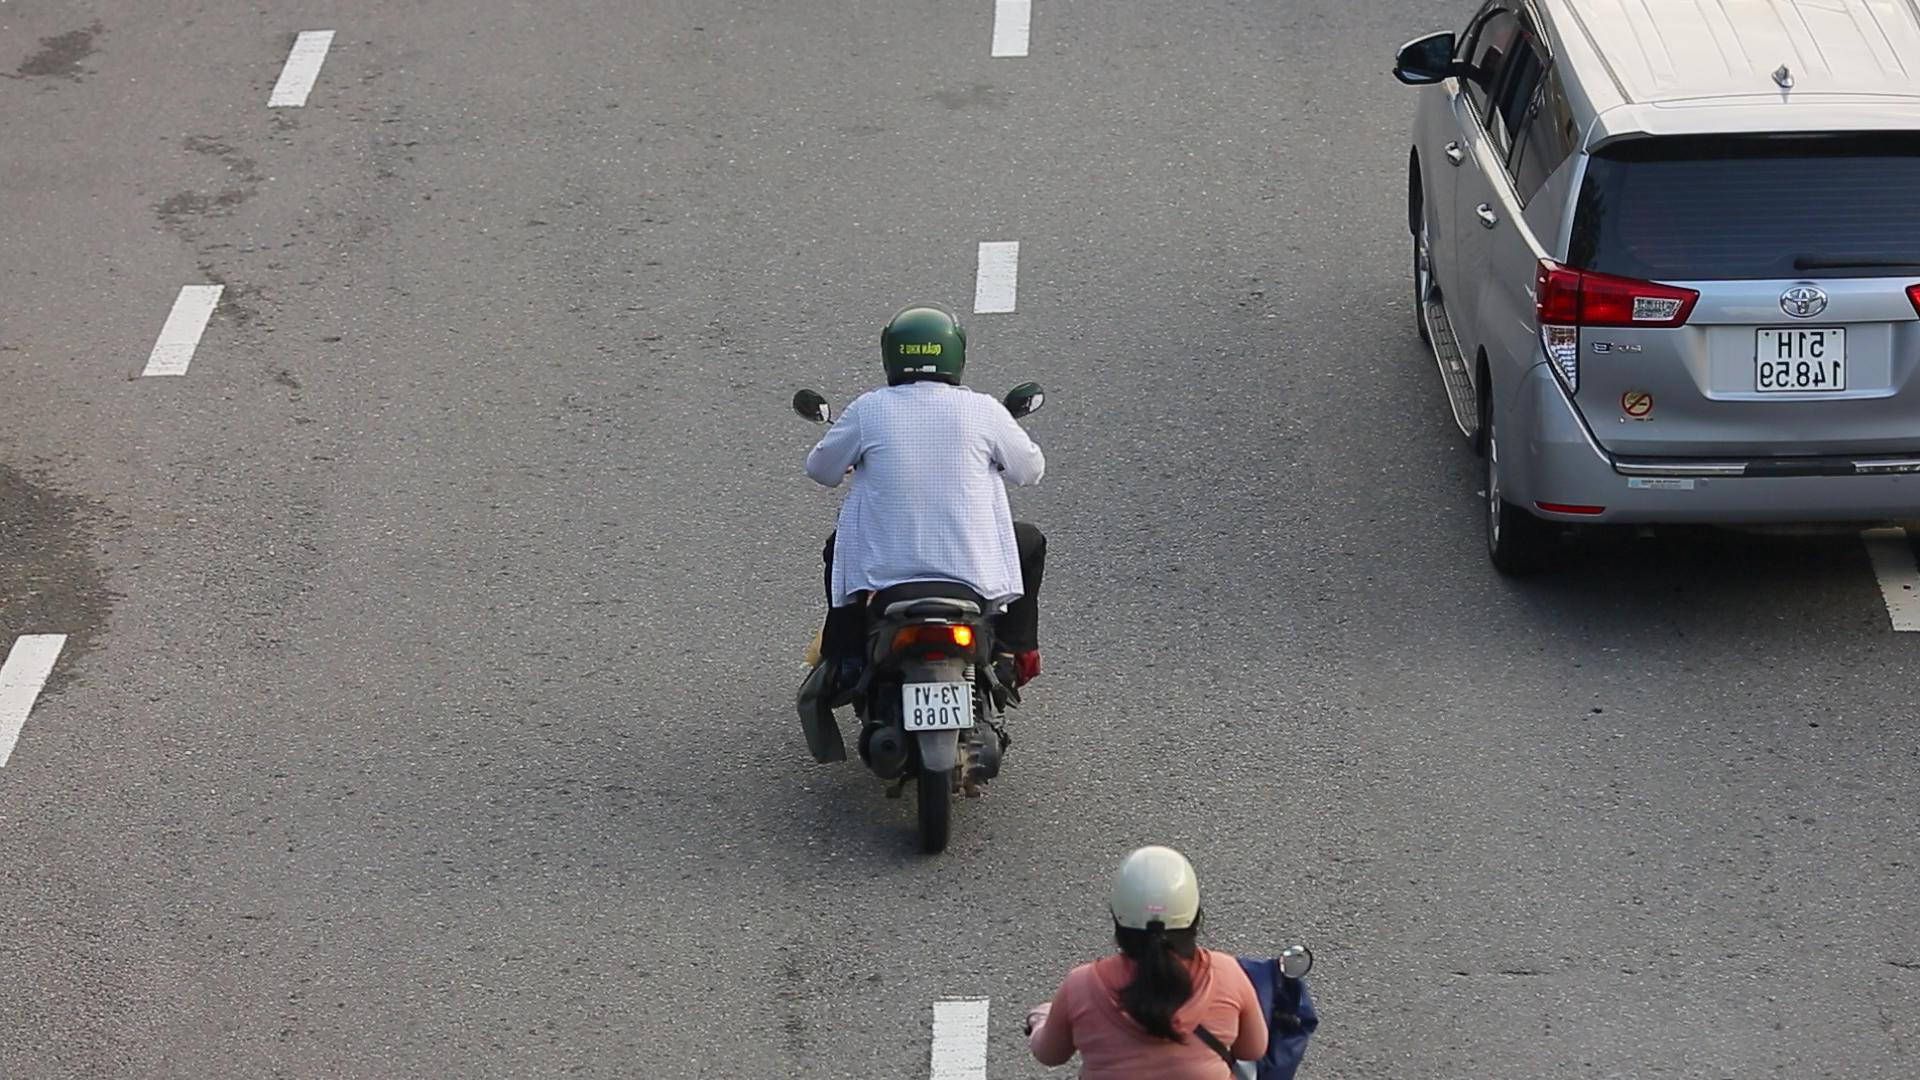motobike: (778, 301, 1055, 856)
